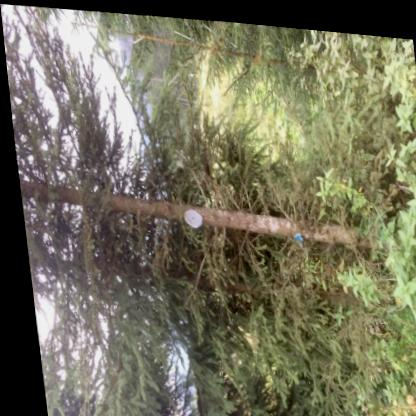Plastic: (178, 206, 196, 224)
Waste: (288, 227, 297, 241)
